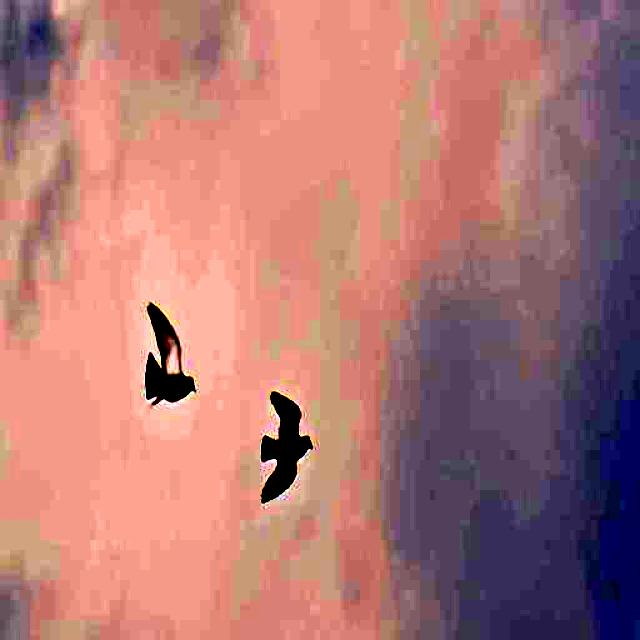airplane: (131, 289, 208, 421), (251, 362, 316, 515)
